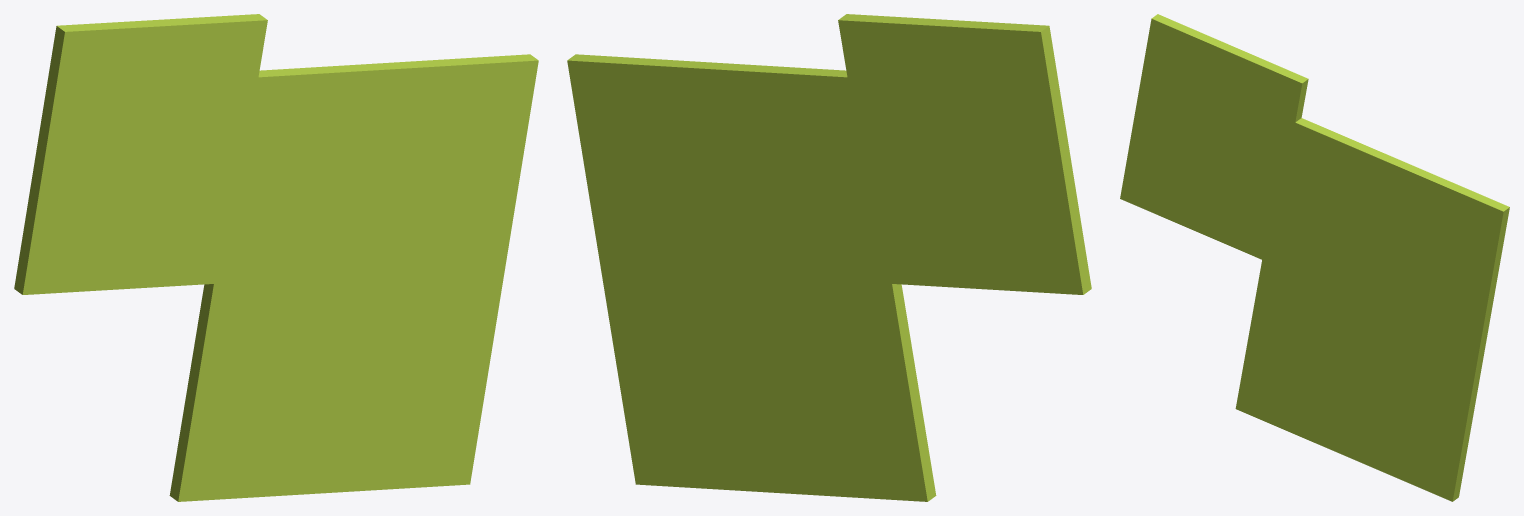
The picture shows the model from 3 angles, left to right: view 1: azimuth 30°, elevation 25°; view 2: azimuth 150°, elevation 25°; view 3: azimuth 330°, elevation 25°; orthographic projection. The views are drawn at different scales.
Visible parts, largest first — view 1: osm-way27917482-F0; view 2: osm-way27917482-F0; view 3: osm-way27917482-F0.
Part boxes in pixels (x1=…): osm-way27917482-F0: x1=14, y1=14, x2=538, y2=501; osm-way27917482-F0: x1=567, y1=14, x2=1091, y2=501; osm-way27917482-F0: x1=1120, y1=14, x2=1509, y2=501.
Bounding box in the file's own units: 5.25 × 5.36 × 0.15.
